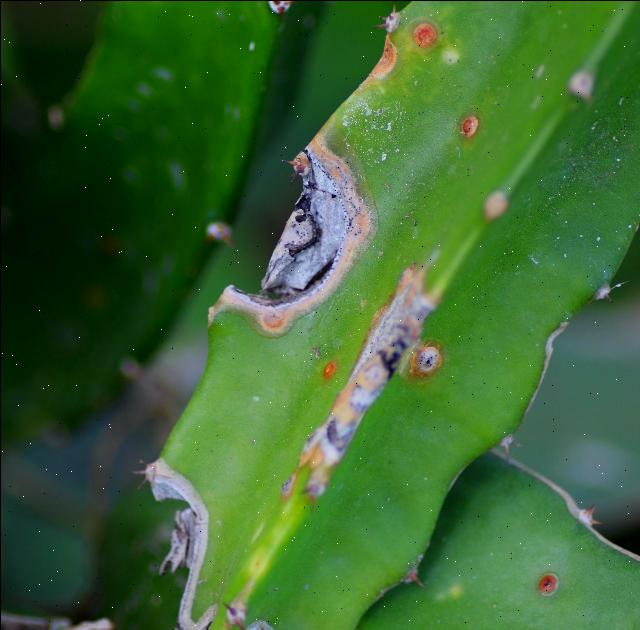stemcanker: (272, 245, 444, 513), (216, 132, 382, 338), (135, 451, 226, 630), (409, 336, 451, 382), (455, 105, 488, 148), (412, 13, 444, 57)
